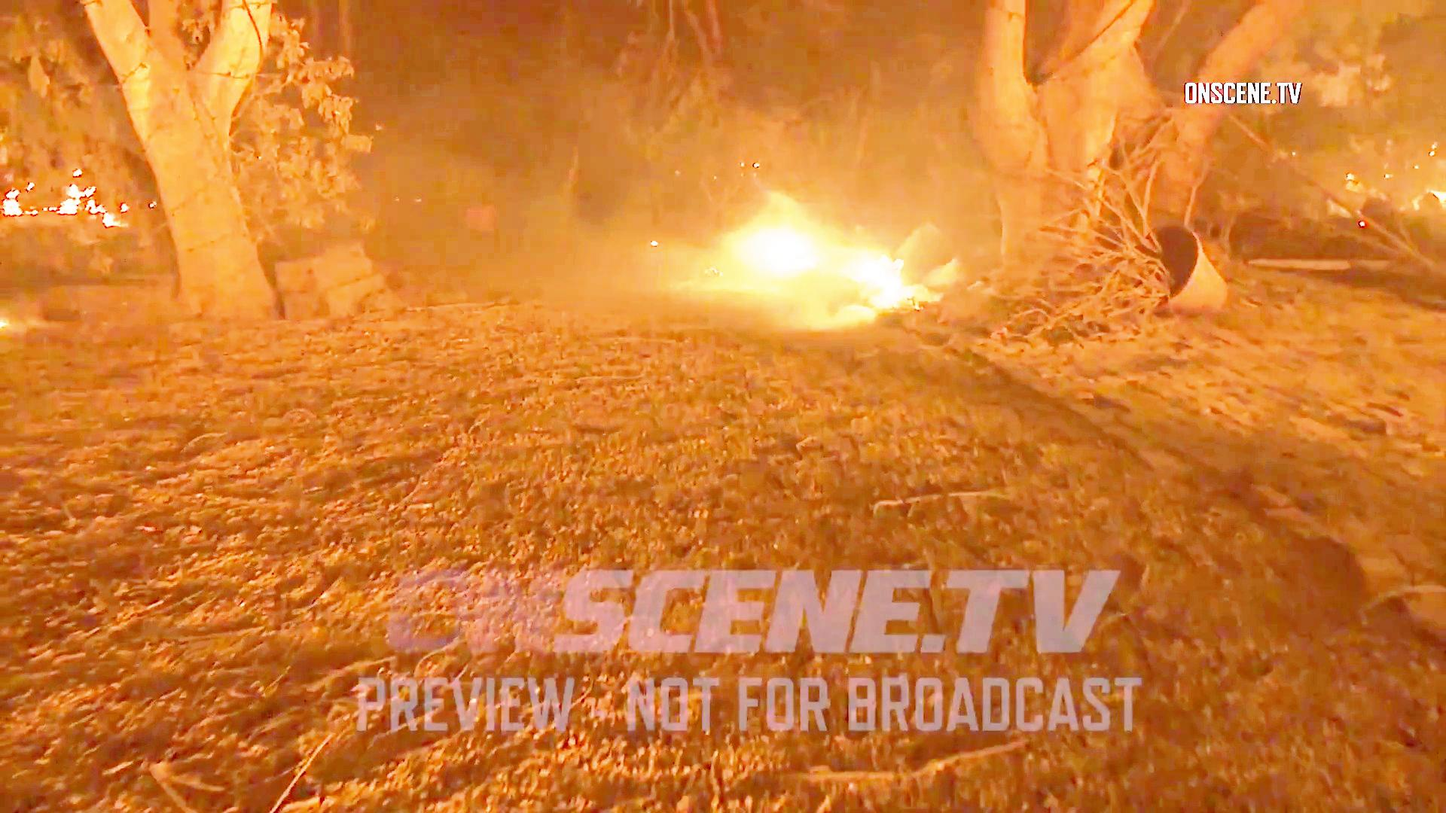fire: (765, 209, 906, 296)
